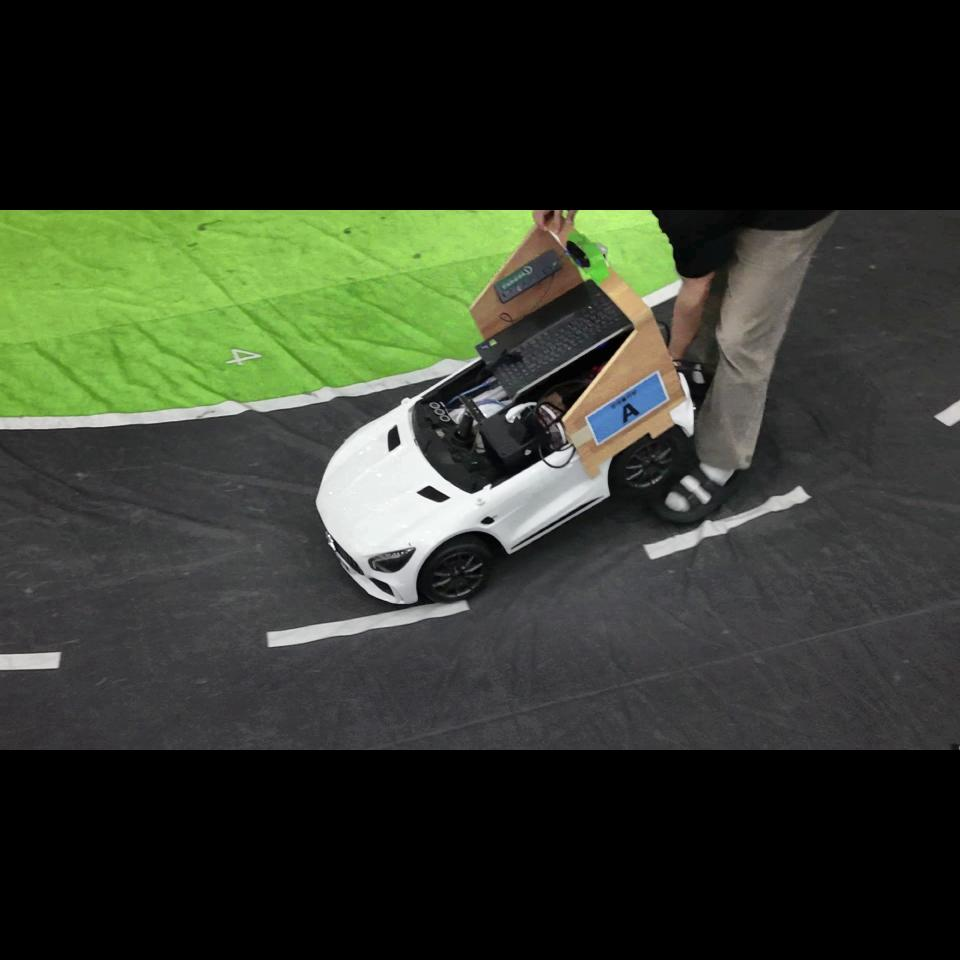broken_line: (642, 485, 813, 560), (265, 599, 471, 648), (0, 651, 62, 671), (934, 400, 960, 427)
